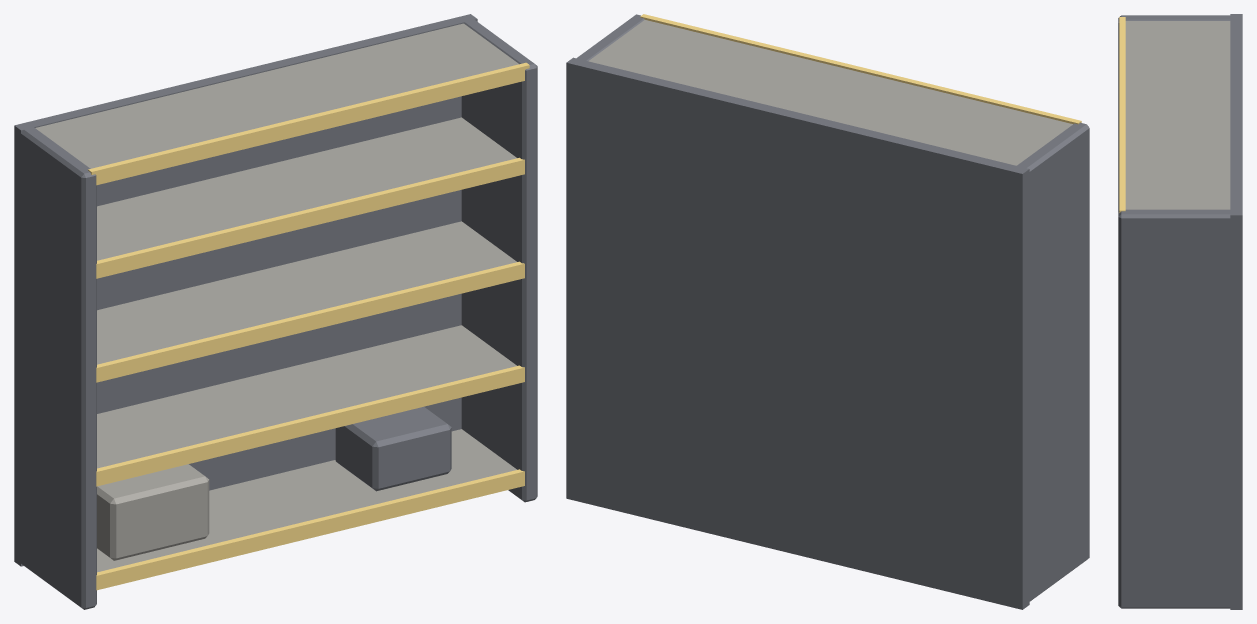
The model's file is lt_shelf_cr.glb.
3 views of the same model, side by side, from view 1: azimuth 30°, elevation 25°; view 2: azimuth 150°, elevation 25°; view 3: azimuth 270°, elevation 25° (orthographic). The views are drawn at different scales.
Parts seen in each view (by area): view 1: lt_shelf_cr; view 2: lt_shelf_cr; view 3: lt_shelf_cr.
Part boxes in pixels (box(x1,y1,x2,y2)): lt_shelf_cr: box(14, 14, 537, 609); lt_shelf_cr: box(566, 14, 1089, 609); lt_shelf_cr: box(1118, 14, 1242, 609).
Size of the model in its own units: 2.3 by 2.11 by 0.6.
